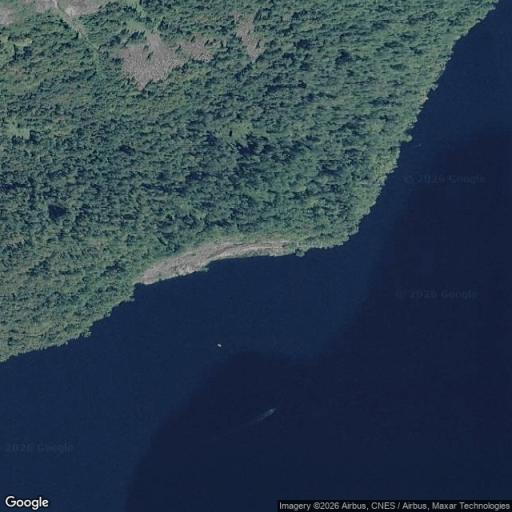ship: (249, 406, 277, 425)
